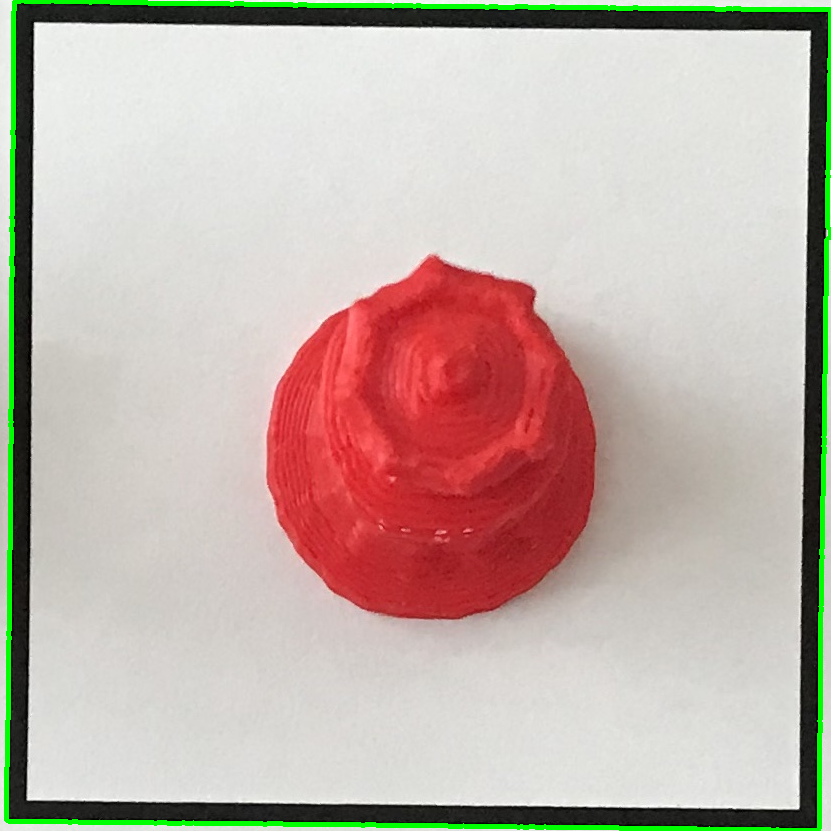Red Queen: (243, 246, 614, 635)
